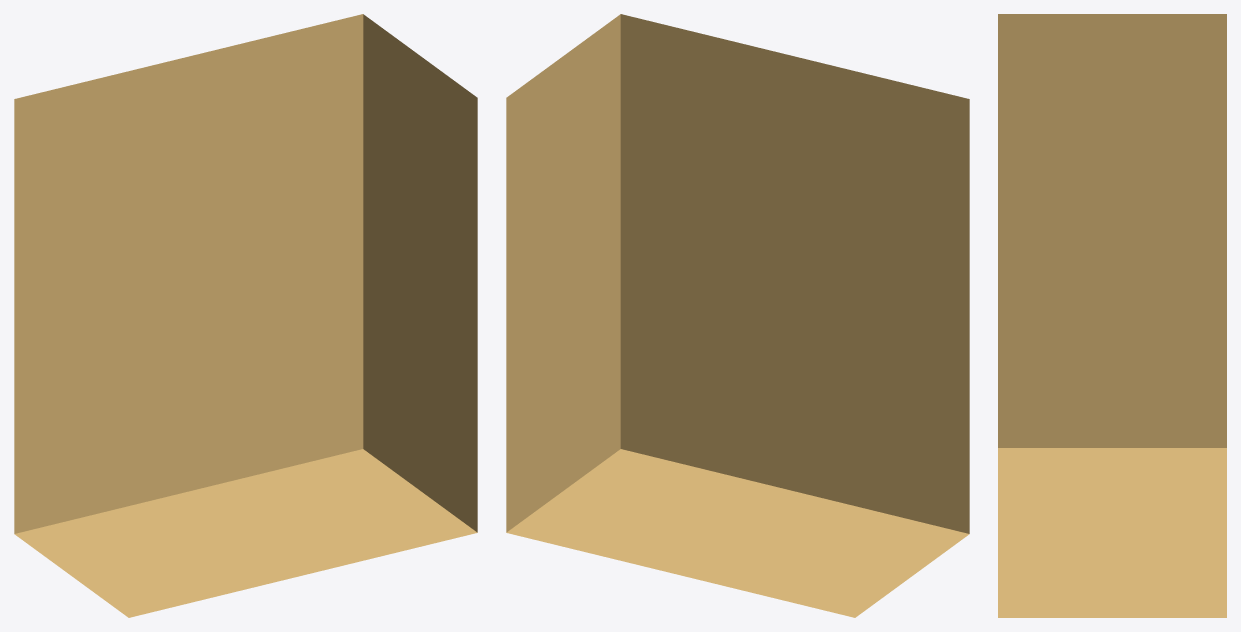
The model's file is audio-minimal-ivory-020.glb.
3 views of the same model, side by side, from view 1: azimuth 30°, elevation 25°; view 2: azimuth 150°, elevation 25°; view 3: azimuth 270°, elevation 25° (orthographic).
Visible parts, largest first — view 1: Minimal Ivory Audio; view 2: Minimal Ivory Audio; view 3: Minimal Ivory Audio.
Boxes of the visible parts, x1=… form: Minimal Ivory Audio: x1=14, y1=14, x2=477, y2=617; Minimal Ivory Audio: x1=506, y1=14, x2=969, y2=617; Minimal Ivory Audio: x1=998, y1=14, x2=1226, y2=617.
Size of the model in its own units: 2.25 by 2.68 by 1.28.
